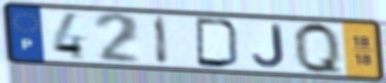2: (92, 11, 145, 65)
4: (47, 10, 91, 62)
D: (193, 16, 244, 70)
I: (153, 14, 171, 67)
J: (251, 23, 287, 69)
Q: (291, 20, 347, 78)
